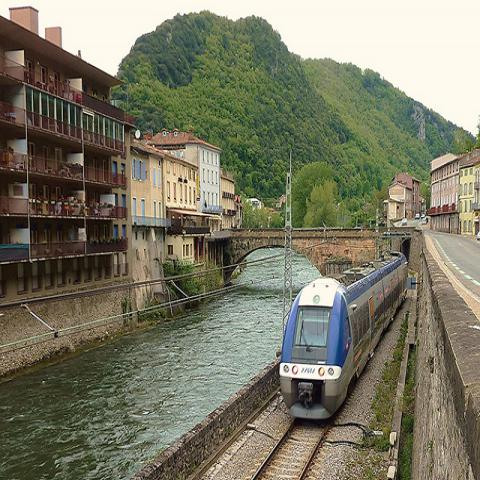car: (401, 218, 408, 226), (422, 219, 427, 225), (421, 214, 425, 220), (415, 214, 419, 218), (477, 231, 479, 239)
